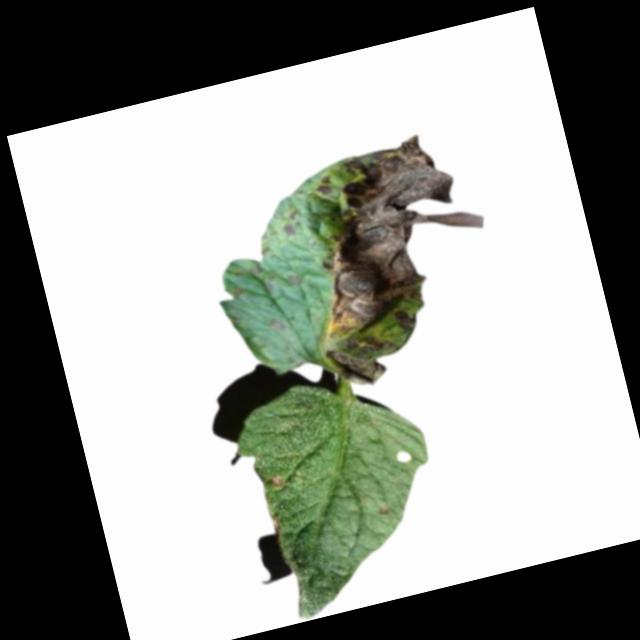Early_blight: (278, 122, 517, 391), (269, 512, 285, 541), (268, 473, 288, 493)
